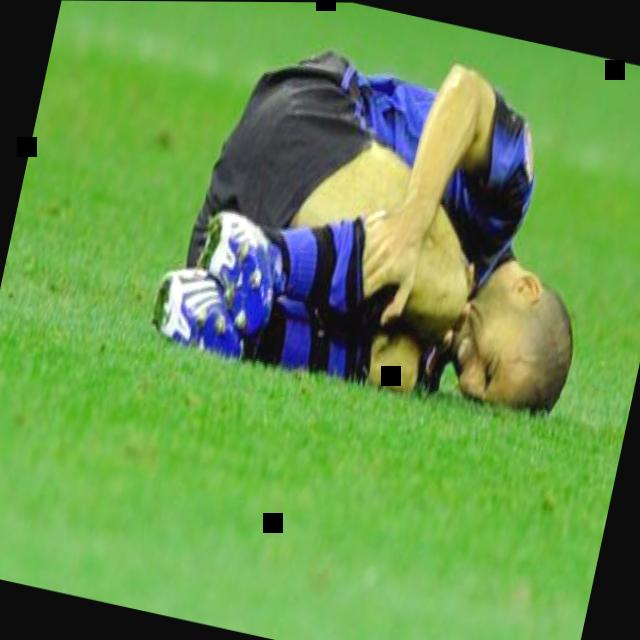Fall-Detected: (150, 1, 638, 432)
